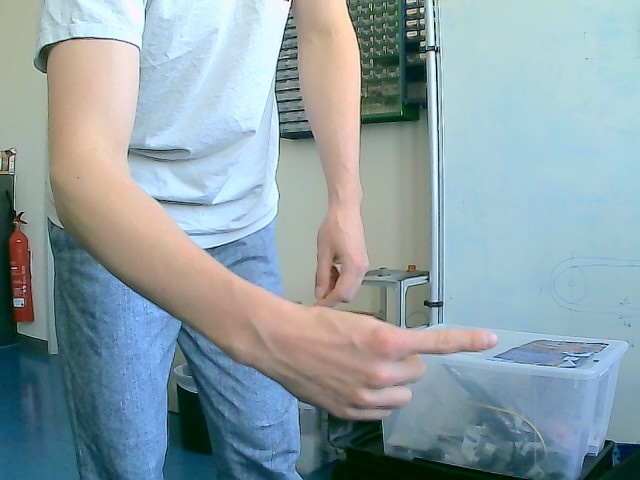left: (259, 301, 499, 423)
